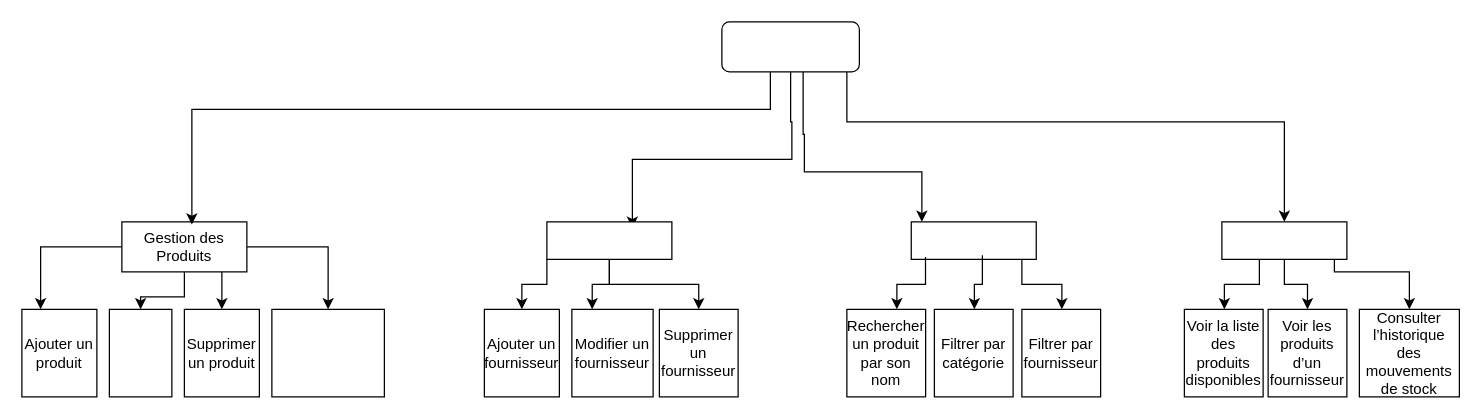
Image size: 1481x420. Some labels were removed from this diagram. The shapes that lost their labels are listed below. From the top down, each one's centre as x and y in pixels, then its label:
At [790,46]: "Utilisateur".
At [609,240]: "Gestion des Fournisseurs".
At [973,240]: "Recherche et Filtres".
At [1284,240]: "Consultation et Historique".
At [140,352]: "Modifier un produit".
At [327,352]: "Associer un produit à une catégorie et un fournisseur".
